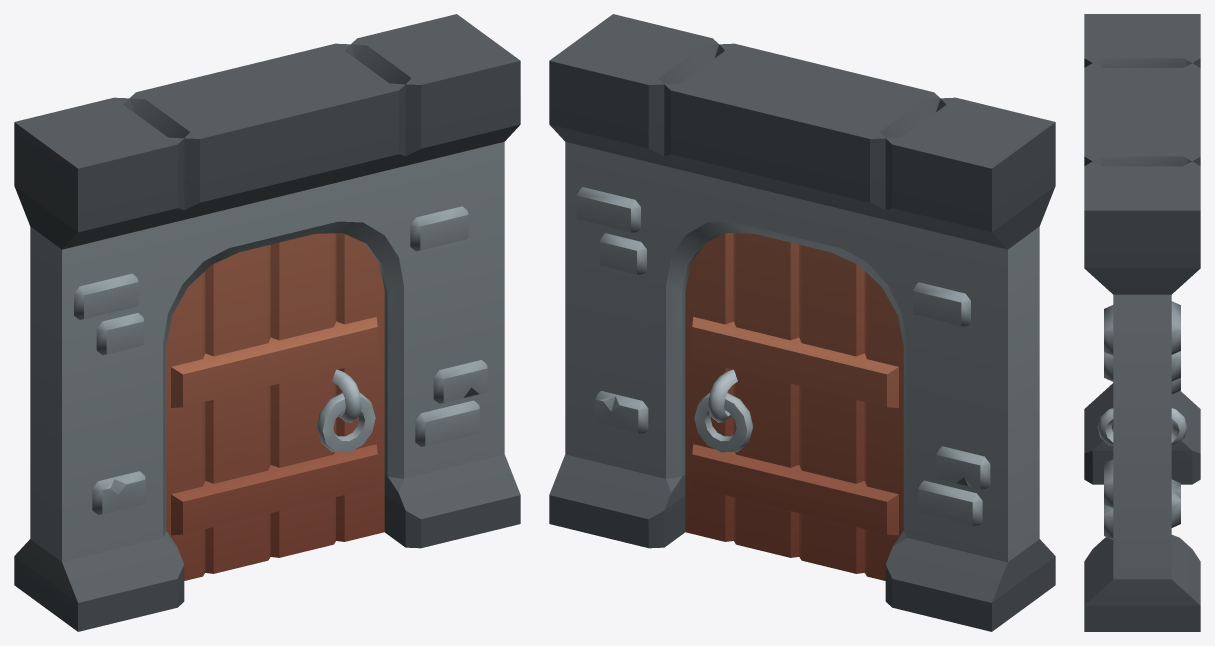
The model's file is wall_doorway.glb.
The picture shows the model from 3 angles, left to right: view 1: azimuth 30°, elevation 25°; view 2: azimuth 150°, elevation 25°; view 3: azimuth 270°, elevation 25°; orthographic projection. The views are drawn at different scales.
Visible parts, largest first — view 1: Cube.13132, wall_doorway_door; view 2: Cube.13132, wall_doorway_door; view 3: Cube.13132, wall_doorway_door.
Part boxes in pixels (x1,y1,x2,y2): Cube.13132: (14, 14, 520, 631); wall_doorway_door: (166, 233, 384, 580); Cube.13132: (549, 14, 1055, 631); wall_doorway_door: (685, 233, 903, 580); Cube.13132: (1084, 14, 1200, 631); wall_doorway_door: (1097, 408, 1187, 445).
Size of the model in its own units: 4 by 4 by 1.
Materials: 1 (1 with a texture image).
